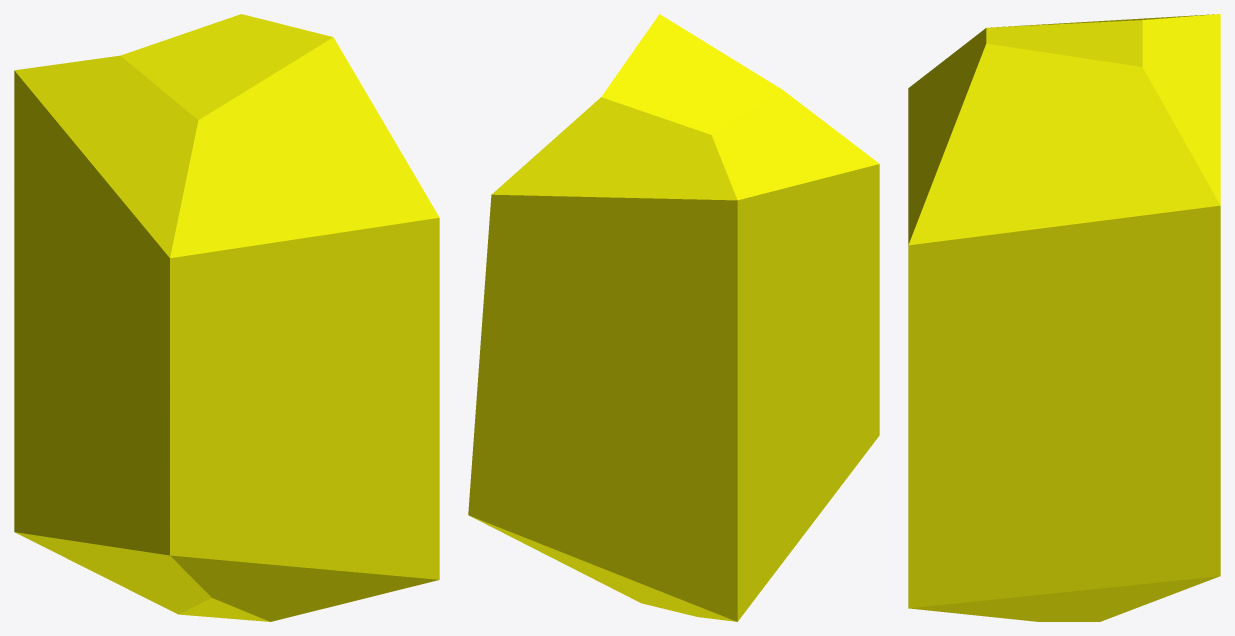
Rendered from FireSpark.fbx.
3 views of the same model, side by side, from view 1: azimuth 30°, elevation 25°; view 2: azimuth 150°, elevation 25°; view 3: azimuth 270°, elevation 25° (orthographic). The views are drawn at different scales.
Parts seen in each view (by area): view 1: Cube; view 2: Cube; view 3: Cube.
Boxes of the visible parts, x1=… form: Cube: x1=14, y1=14, x2=439, y2=621; Cube: x1=468, y1=14, x2=879, y2=621; Cube: x1=908, y1=14, x2=1220, y2=621.
Bounding box in the file's own units: 109 × 211 × 100.
